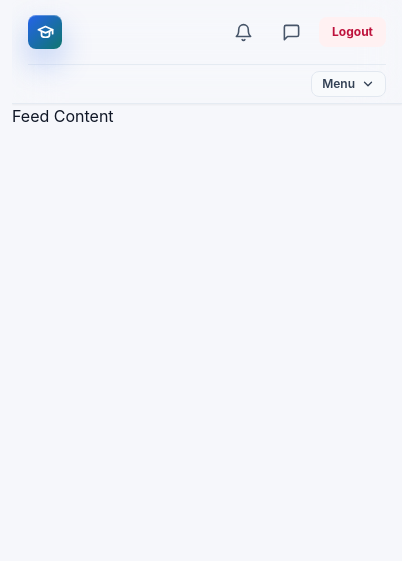
Scenario: College-Scoped Navigation & Integration Regression Suite › Test H: admin role renders Alumni Requests in mobile navigation menu
Click the button with aria-label "Open navigation menu".
click(349, 84)  # box top-left (311, 71), bottom-right (386, 97)
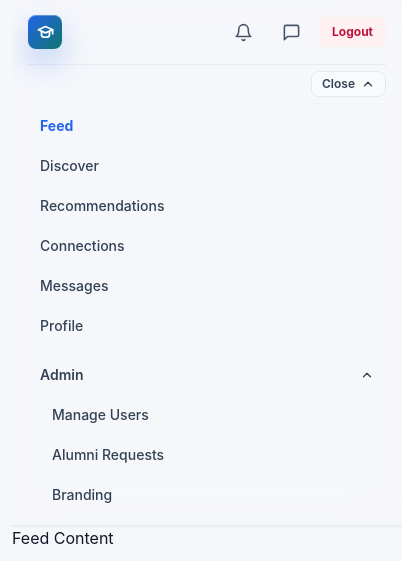
Now the element with test id "mobile-nav-dropdown" shows "Alumni Requests", box top-left (40, 437), bottom-right (386, 473)
